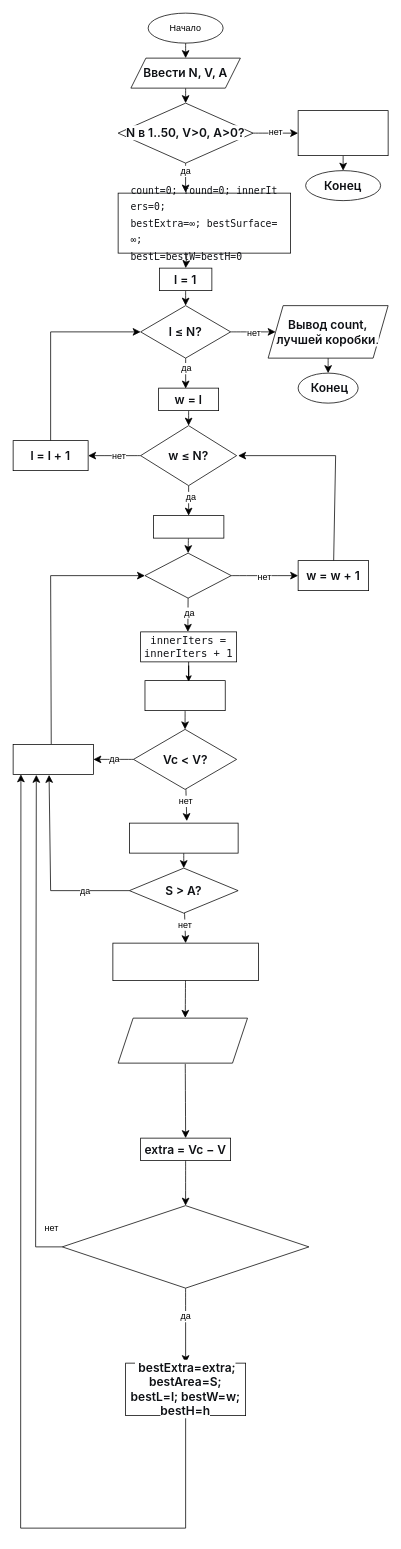
Some shapes in this 401 by 1549 pixel diagram are drawn without their labels. Here are the shapes that lost their labels. From the top down, the box of each, then its label:
(297, 110, 388, 156): Сообщение об ошибке
(153, 515, 224, 538): h = w
(144, 552, 231, 598): h ≤ N?
(144, 680, 225, 711): Vc = l·w·h
(12, 744, 93, 774): h = h + 1
(129, 822, 238, 853): S = 2(lw + lh + wh)
(112, 942, 258, 981): count = count + 1; found = 1
(117, 1017, 248, 1063): Вывод l, w, h, Vc, S
(62, 1205, 309, 1288): extra < bestExtra или (extra == bestExtra и S < bestArea)?
